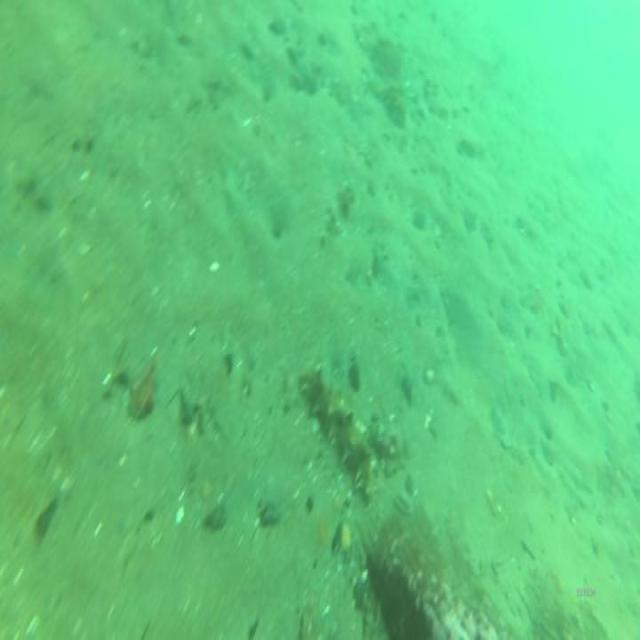holothurian: (295, 360, 379, 504)
